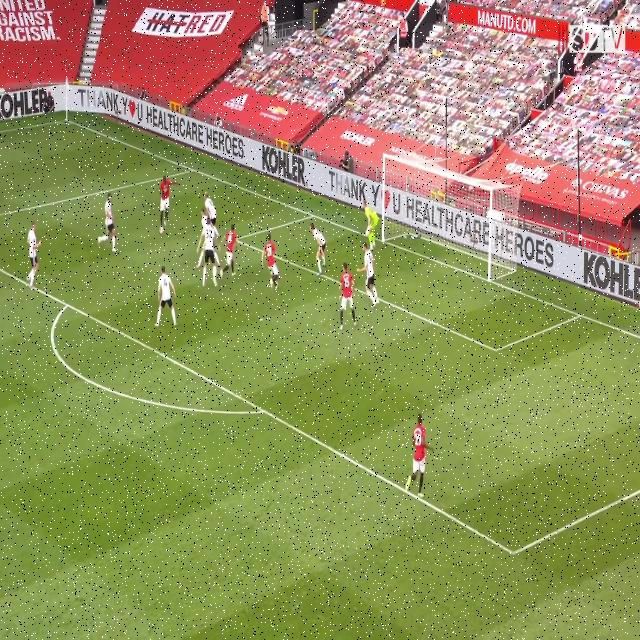Ball: (160, 224, 165, 237)
GoalKeeper: (362, 202, 379, 249)
TEAM 1: (408, 414, 431, 497), (337, 262, 358, 332), (160, 174, 176, 236), (223, 224, 240, 278), (263, 236, 279, 289)
TEAM 2: (154, 265, 179, 327), (362, 242, 380, 308), (25, 221, 42, 288), (310, 223, 328, 276), (103, 195, 118, 255), (203, 218, 210, 292), (202, 193, 217, 226), (197, 209, 205, 267)
